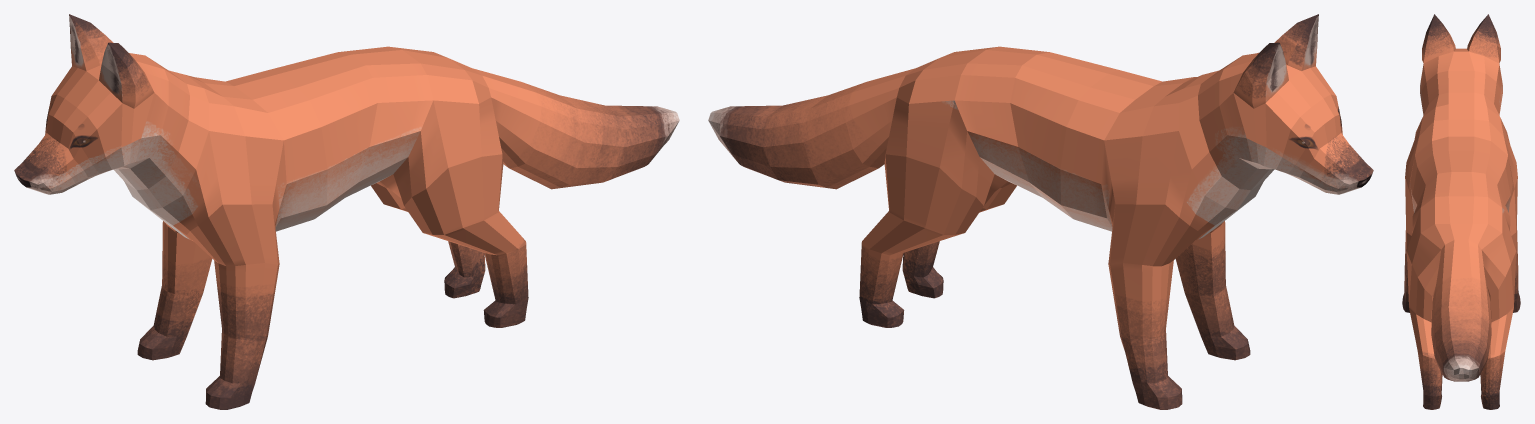
The model's file is Fox.fbx.
3 views of the same model, side by side, from view 1: azimuth 30°, elevation 25°; view 2: azimuth 150°, elevation 25°; view 3: azimuth 270°, elevation 25° (orthographic). The views are drawn at different scales.
Visible parts, largest first — view 1: Object_6; view 2: Object_6; view 3: Object_6.
Part boxes in pixels (x1=…): Object_6: x1=14, y1=14, x2=679, y2=409; Object_6: x1=708, y1=14, x2=1373, y2=409; Object_6: x1=1402, y1=14, x2=1520, y2=409.
Size of the model in its own units: 426 by 233 by 96.6.
Materials: 1 (1 with a texture image).
